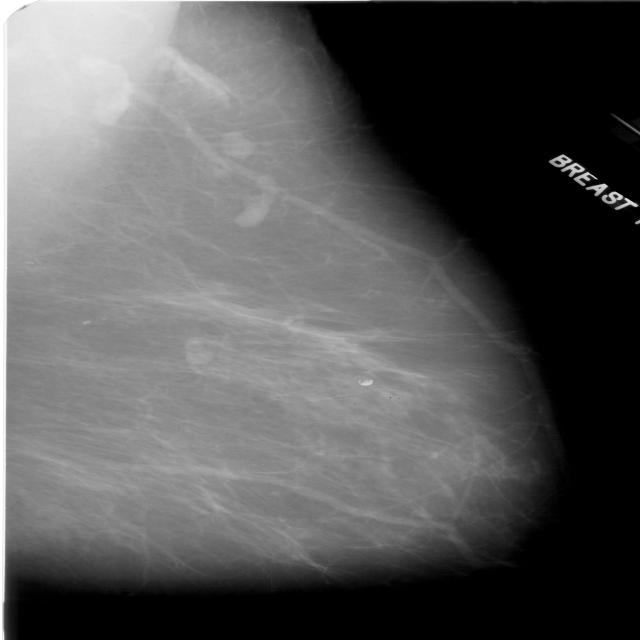normal: (0, 0, 562, 598)
